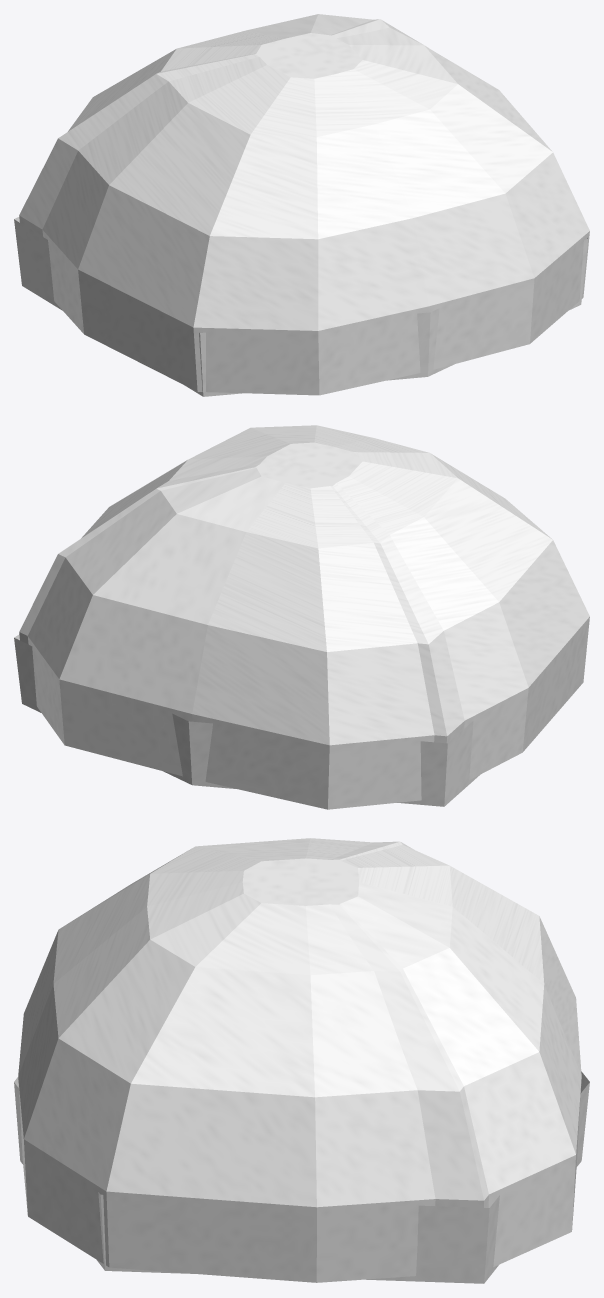
The model's file is head_watch.glb.
3 views of the same model, one above another, from view 1: azimuth 30°, elevation 25°; view 2: azimuth 150°, elevation 25°; view 3: azimuth 270°, elevation 25° (orthographic). The views are drawn at different scales.
Parts seen in each view (by area): view 1: head_watch_head_LOD0_RAID_knit, head_watch_head_LOD1_RAID_knit; view 2: head_watch_head_LOD0_RAID_knit, head_watch_head_LOD1_RAID_knit; view 3: head_watch_head_LOD0_RAID_knit, head_watch_head_LOD1_RAID_knit.
Part boxes in pixels (x1=…): head_watch_head_LOD0_RAID_knit: x1=14, y1=14, x2=589, y2=396; head_watch_head_LOD1_RAID_knit: x1=19, y1=19, x2=427, y2=236; head_watch_head_LOD0_RAID_knit: x1=14, y1=425, x2=589, y2=809; head_watch_head_LOD1_RAID_knit: x1=19, y1=445, x2=464, y2=743; head_watch_head_LOD0_RAID_knit: x1=14, y1=838, x2=589, y2=1283; head_watch_head_LOD1_RAID_knit: x1=261, y1=841, x2=488, y2=1207.
Bounding box in the file's own units: 0.298 × 0.148 × 0.277.
2 materials, 2 textured.
